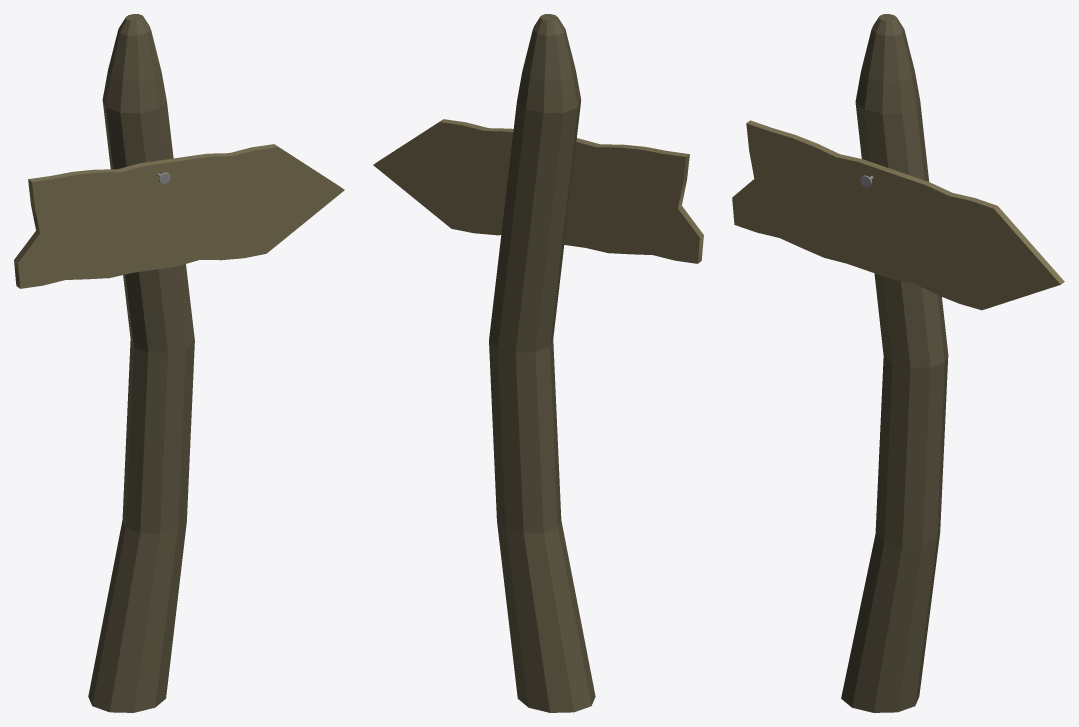
The model's file is Sign.fbx.
The picture shows the model from 3 angles, left to right: view 1: azimuth 30°, elevation 25°; view 2: azimuth 150°, elevation 25°; view 3: azimuth 330°, elevation 25°; orthographic projection.
Parts seen in each view (by area): view 1: pCube2; view 2: pCube2; view 3: pCube2.
Part boxes in pixels (x1,y1,x2,y2): pCube2: (14,14,344,712); pCube2: (373,14,703,712); pCube2: (732,14,1064,712).
Size of the model in its own units: 12.54 by 24.85 by 2.89.
